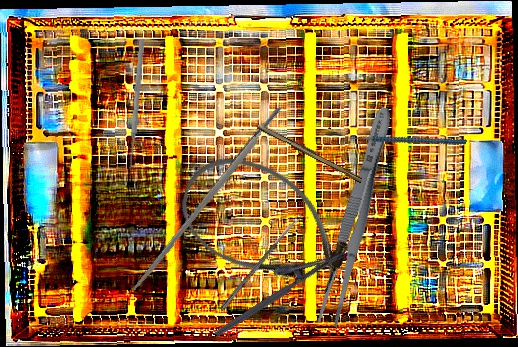Cannula: (162, 135, 367, 315)
Chopper: (338, 97, 468, 189)
Dressing Forceps: (313, 104, 399, 329)
Needle Holder: (202, 233, 347, 338)
Pusher: (126, 38, 146, 170)
Scalpel Handle: (130, 105, 285, 293), (255, 121, 365, 184)
Surgical Spoon: (219, 213, 303, 312)
